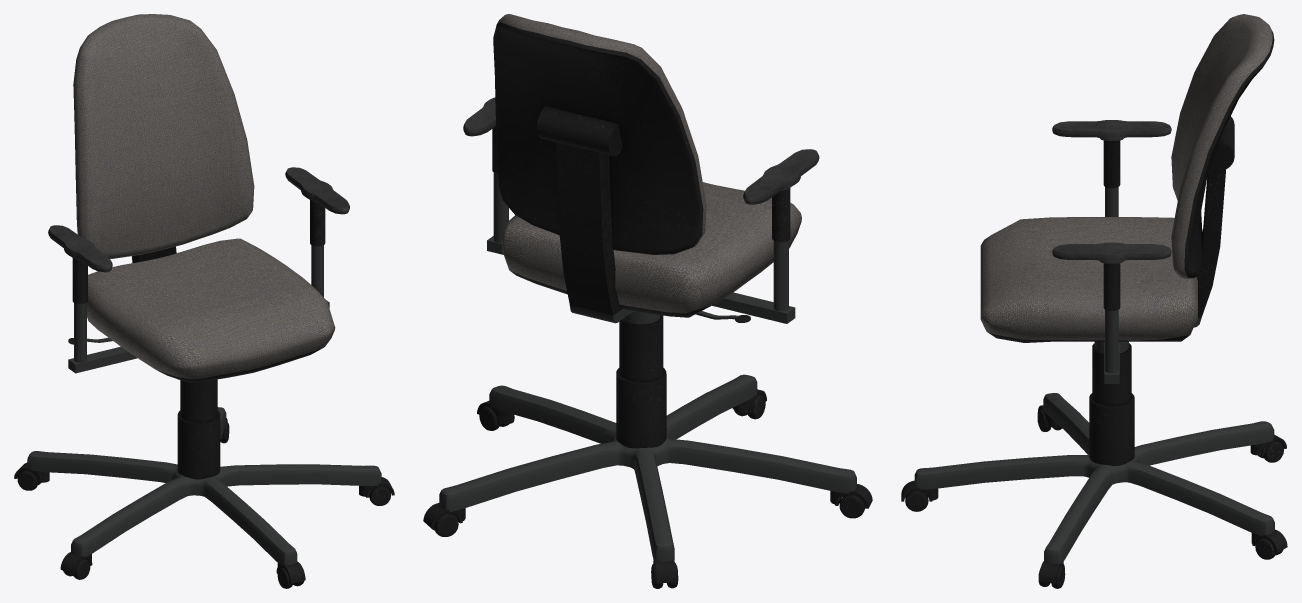
Rendered from chair-transformed.glb.
3 views of the same model, side by side, from view 1: azimuth 30°, elevation 25°; view 2: azimuth 150°, elevation 25°; view 3: azimuth 270°, elevation 25° (orthographic). The views are drawn at different scales.
Parts seen in each view (by area): view 1: OfficeChair_OfficeChairCloth_0, OfficeChair_OfficeChairMetal_0, OfficeChair_OfficeChairPlastic_0, OfficeChair_OfficeChairLeather_0; view 2: OfficeChair_OfficeChairPlastic_0, OfficeChair_OfficeChairMetal_0, OfficeChair_OfficeChairCloth_0, OfficeChair_OfficeChairLeather_0; view 3: OfficeChair_OfficeChairCloth_0, OfficeChair_OfficeChairMetal_0, OfficeChair_OfficeChairPlastic_0, OfficeChair_OfficeChairLeather_0.
Part boxes in pixels (left/top/right/bottom): OfficeChair_OfficeChairCloth_0: left=73, top=14, right=335, bottom=379; OfficeChair_OfficeChairMetal_0: left=27, top=245, right=381, bottom=565; OfficeChair_OfficeChairPlastic_0: left=14, top=50, right=394, bottom=588; OfficeChair_OfficeChairLeather_0: left=48, top=167, right=349, bottom=272; OfficeChair_OfficeChairPlastic_0: left=423, top=22, right=872, bottom=588; OfficeChair_OfficeChairMetal_0: left=439, top=172, right=856, bottom=561; OfficeChair_OfficeChairCloth_0: left=493, top=14, right=801, bottom=313; OfficeChair_OfficeChairLeather_0: left=463, top=97, right=819, bottom=204; OfficeChair_OfficeChairCloth_0: left=980, top=14, right=1272, bottom=340; OfficeChair_OfficeChairMetal_0: left=914, top=187, right=1274, bottom=564; OfficeChair_OfficeChairPlastic_0: left=901, top=31, right=1287, bottom=588; OfficeChair_OfficeChairLeather_0: left=1052, top=120, right=1171, bottom=263.
Size of the model in its own units: 97.3 by 126 by 92.61.
4 materials, 3 textured.
